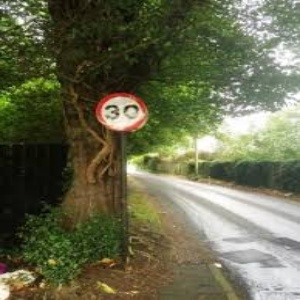30 speed: (96, 93, 149, 131)
